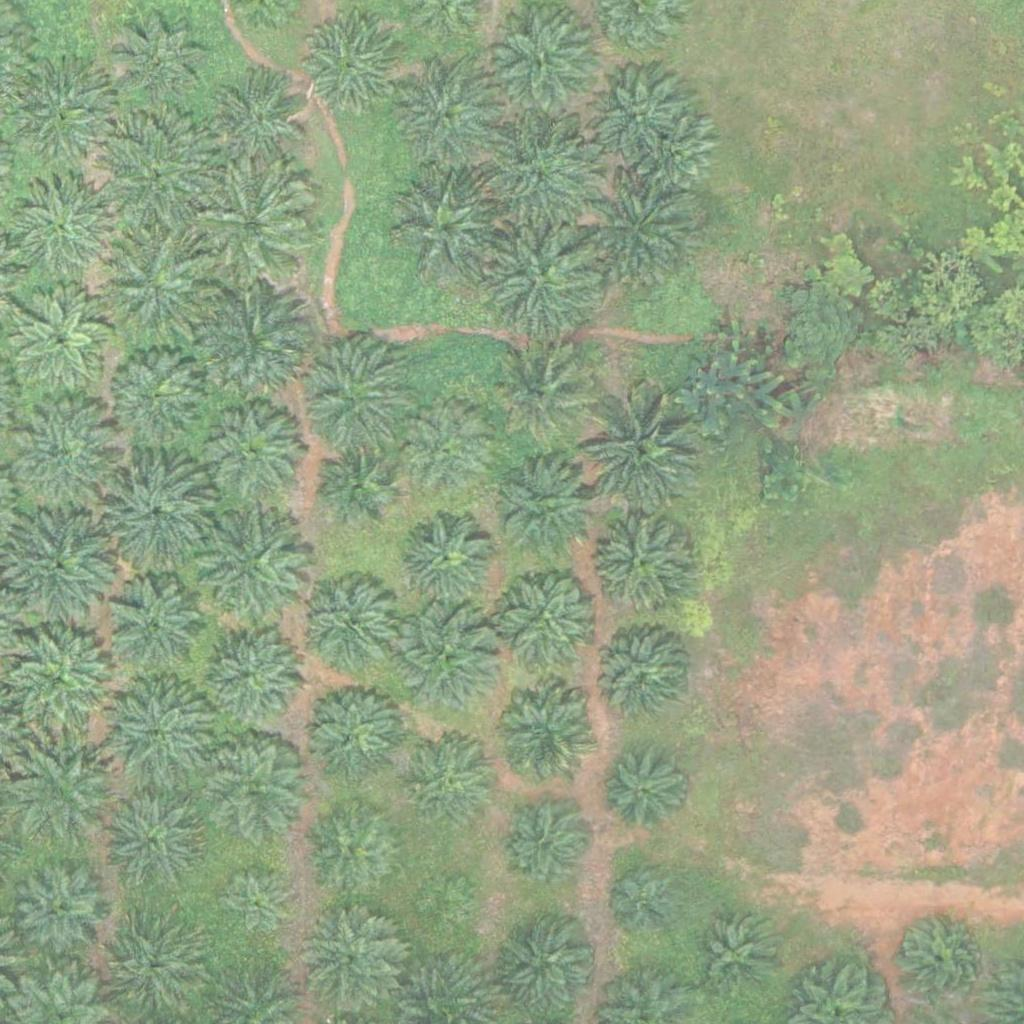Kelapa_Sawit: (193, 167, 306, 281), (297, 341, 410, 455), (489, 562, 602, 676), (387, 601, 500, 715), (489, 10, 602, 123), (11, 395, 124, 508), (3, 505, 116, 618), (482, 121, 595, 234), (584, 183, 697, 296), (104, 680, 217, 793), (5, 626, 118, 739), (2, 52, 114, 166), (6, 167, 118, 281), (101, 119, 213, 233), (98, 227, 210, 341), (198, 280, 310, 394), (195, 395, 307, 509), (587, 398, 699, 511), (103, 7, 215, 120), (99, 448, 211, 561), (197, 513, 309, 626), (391, 172, 503, 285), (487, 225, 599, 338), (492, 456, 604, 569), (7, 737, 119, 850), (497, 346, 597, 447), (397, 69, 497, 170), (299, 14, 399, 115), (10, 286, 110, 387), (105, 577, 205, 678), (205, 73, 305, 174), (591, 512, 691, 613), (404, 731, 504, 832), (302, 680, 402, 781), (306, 799, 406, 900), (298, 907, 398, 1008), (202, 625, 302, 726), (203, 737, 303, 838), (103, 786, 203, 887), (100, 919, 200, 1020), (13, 863, 113, 964), (106, 343, 206, 443), (295, 576, 395, 676), (397, 399, 497, 499), (394, 511, 494, 611), (593, 626, 693, 726), (494, 686, 594, 786), (598, 750, 686, 838), (693, 912, 781, 1000), (593, 72, 680, 160), (628, 112, 715, 200), (500, 802, 587, 890), (894, 915, 981, 1003), (318, 445, 393, 521), (216, 869, 291, 944), (611, 870, 674, 933), (413, 873, 475, 936)
